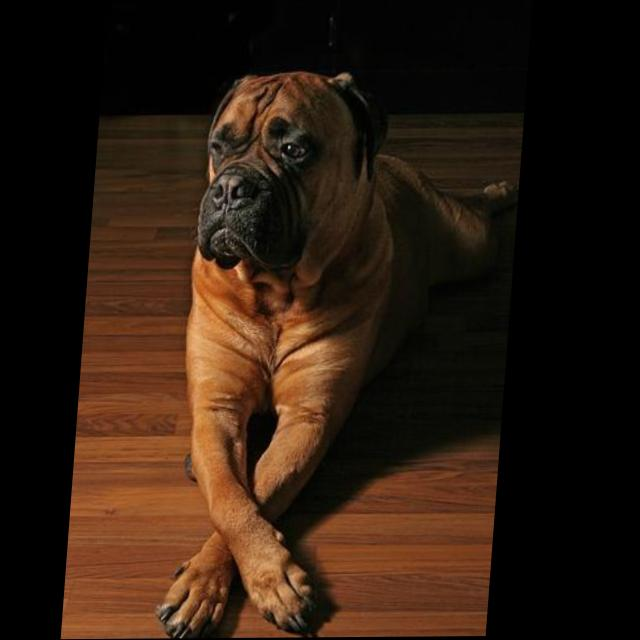bullmastiff: (163, 68, 529, 639)
